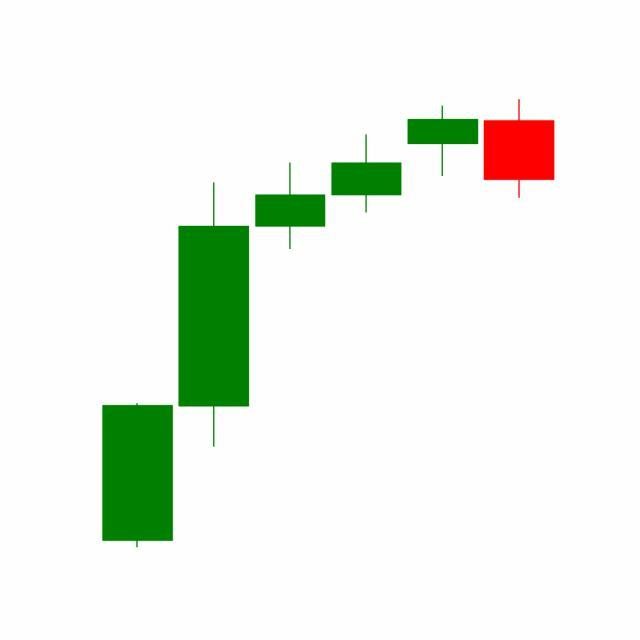Upside-Downside Gap Three Methods: (326, 100, 555, 216)
